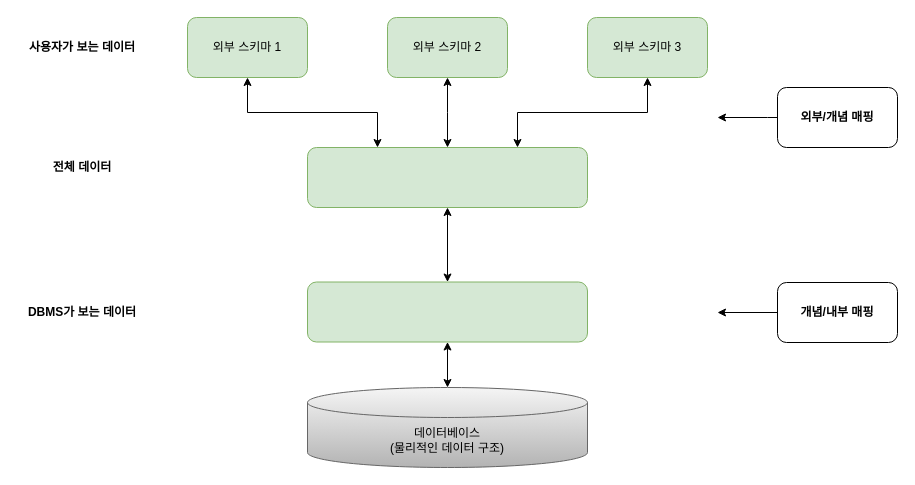
Image size: 915x485. Some labels were removed from this diagram. Each missing label, with the centre of its shape:
개념 스키마: the point at 447,177
내부 스키마: the point at 447,311
